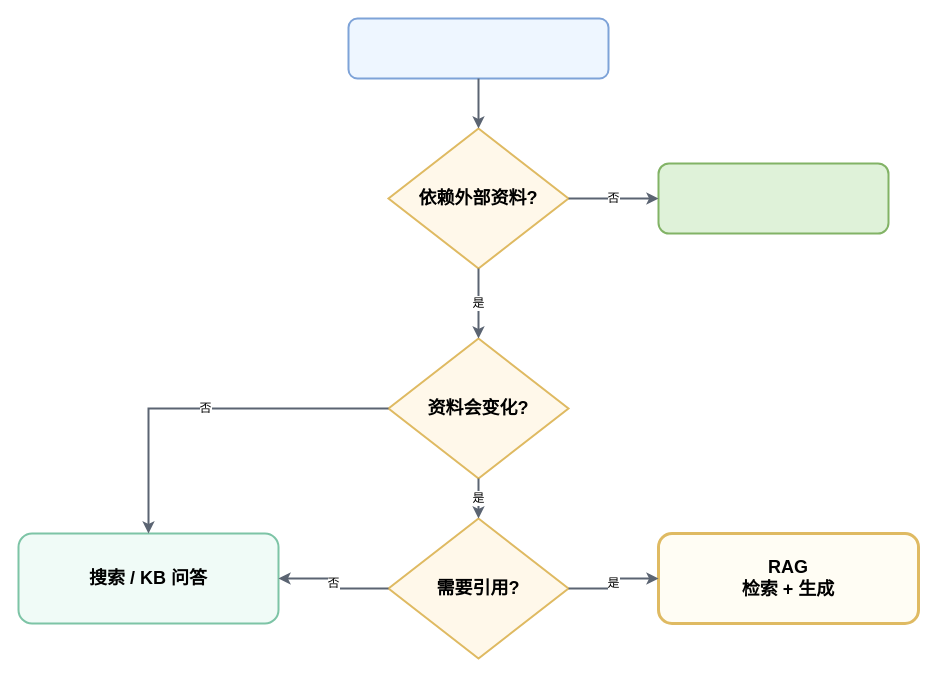
The diagram is 937 pixels wide and 676 high, and some of its shapes have lost their labels. Here are the shapes that lost their labels. From the top down, the box of each, then its label:
(347, 17, 609, 79): 问题场景
(657, 162, 889, 234): 纯模型 / 规则 / 工具
